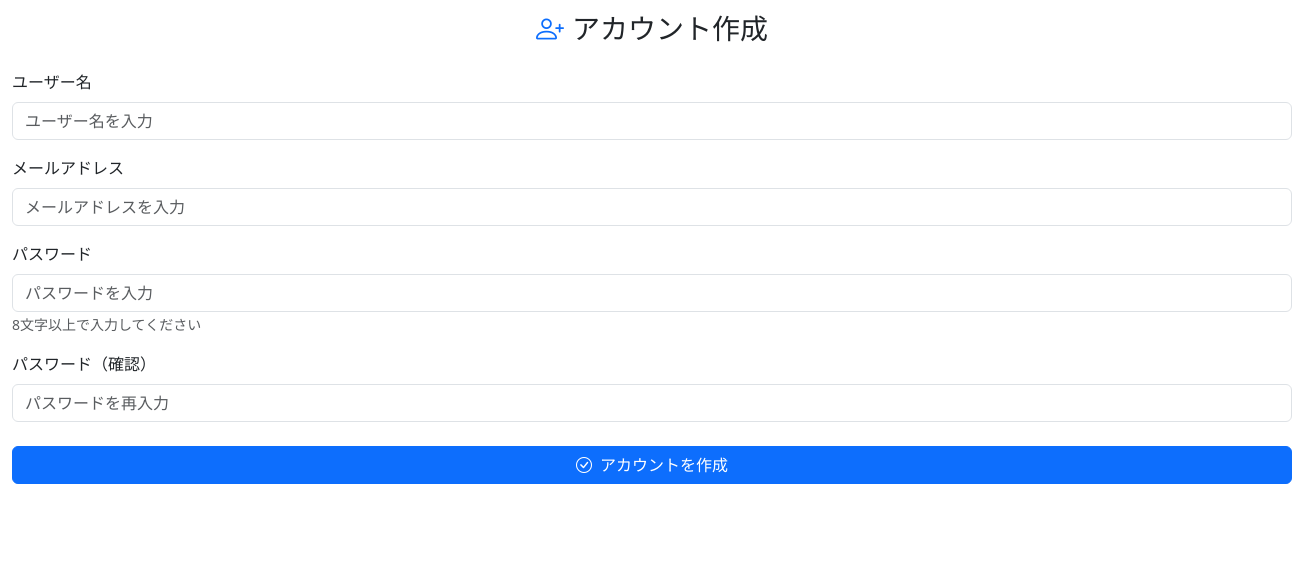
Test: Register コンポーネント › ユーザー名重複エラーを表示
This screenshot has width=1304, height=575.
Type "existing" into the field with placeholder "ユーザー名を入力" at (652, 121), box top-left (12, 102), bottom-right (1292, 140)
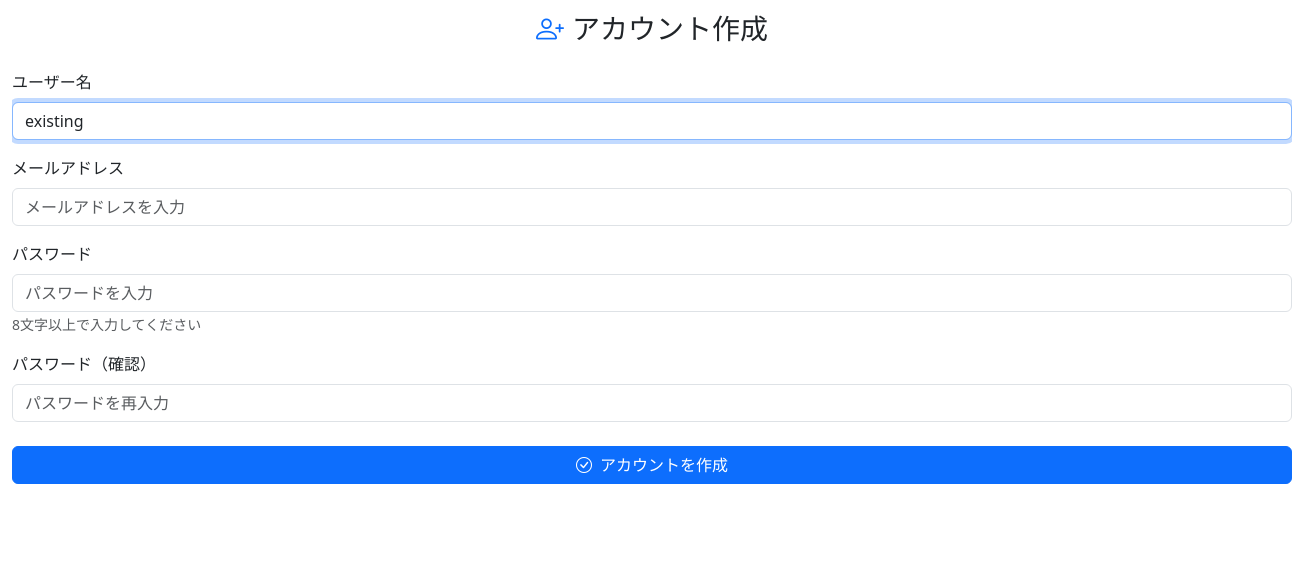
Type "password123" into the password field with placeholder "パスワードを入力" at (652, 293), box top-left (12, 274), bottom-right (1292, 312)
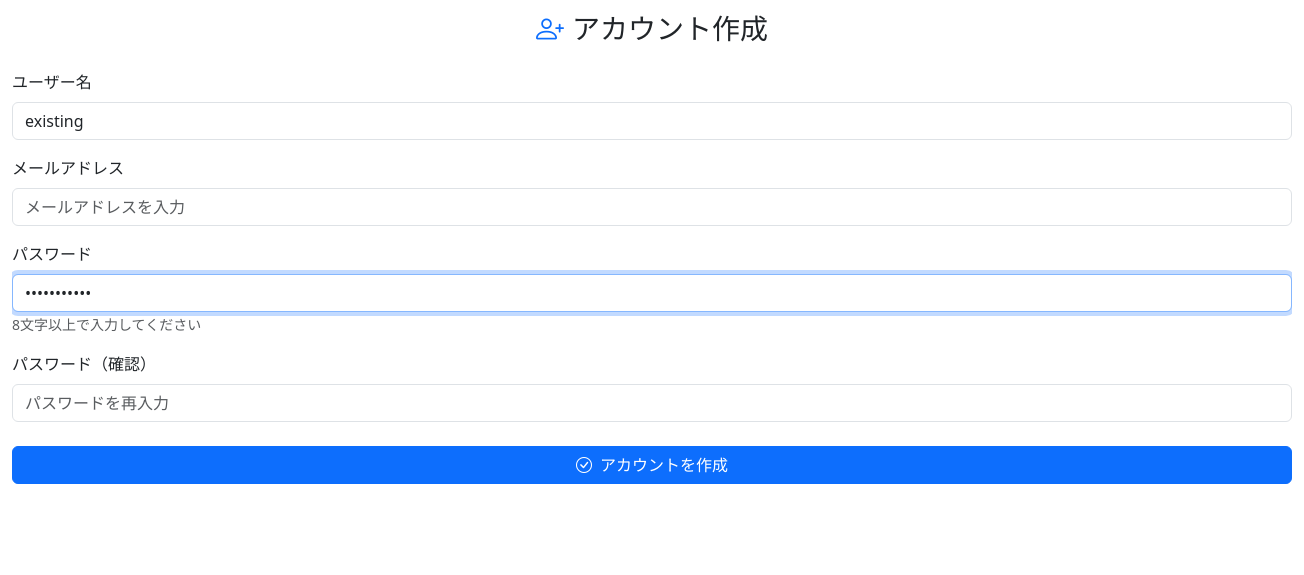
Type "password123" into the password field with placeholder "パスワードを再入力" at (652, 403), box top-left (12, 384), bottom-right (1292, 422)
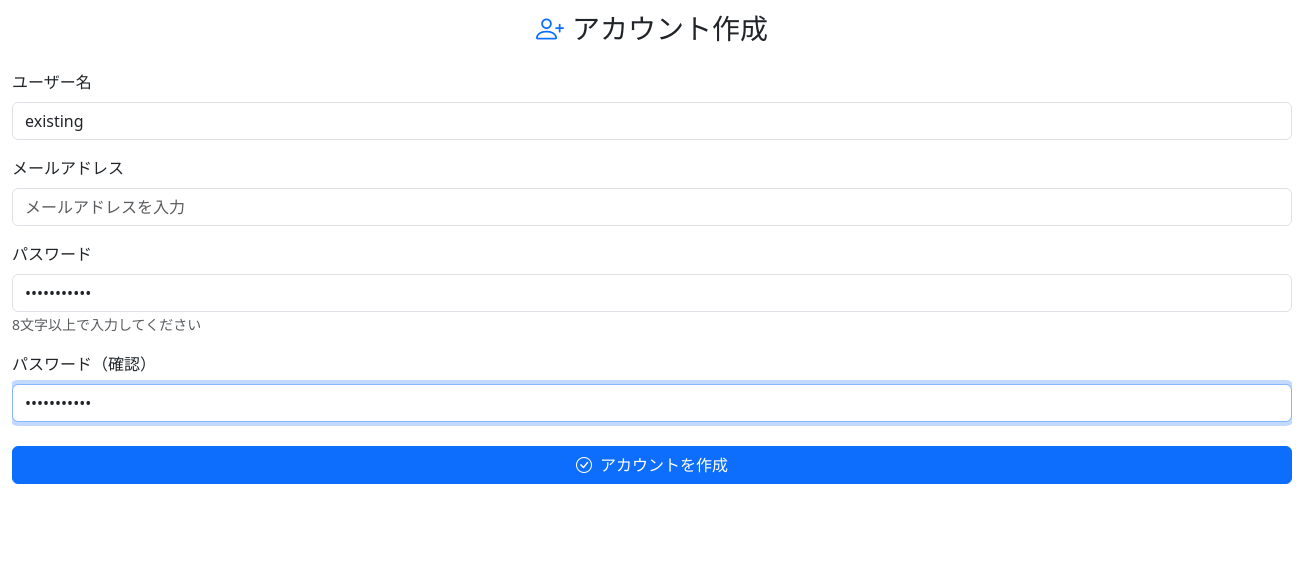
Click the button "アカウントを作成" at (652, 465), box top-left (12, 446), bottom-right (1292, 484)
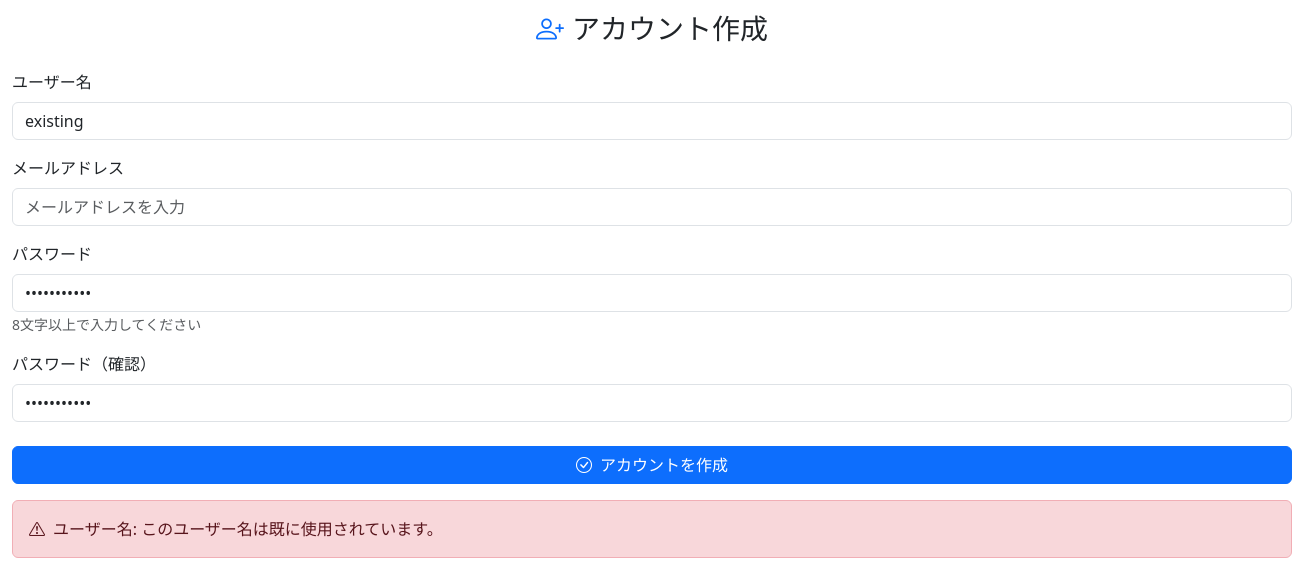
Now the text "ユーザー名: このユーザー名は既に使用されています。" is shown, box top-left (12, 500), bottom-right (1292, 558)
